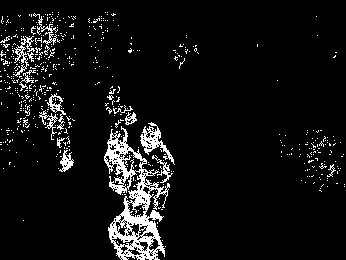person: (136, 120, 175, 219), (113, 189, 165, 260), (39, 94, 76, 175), (103, 129, 140, 206)
